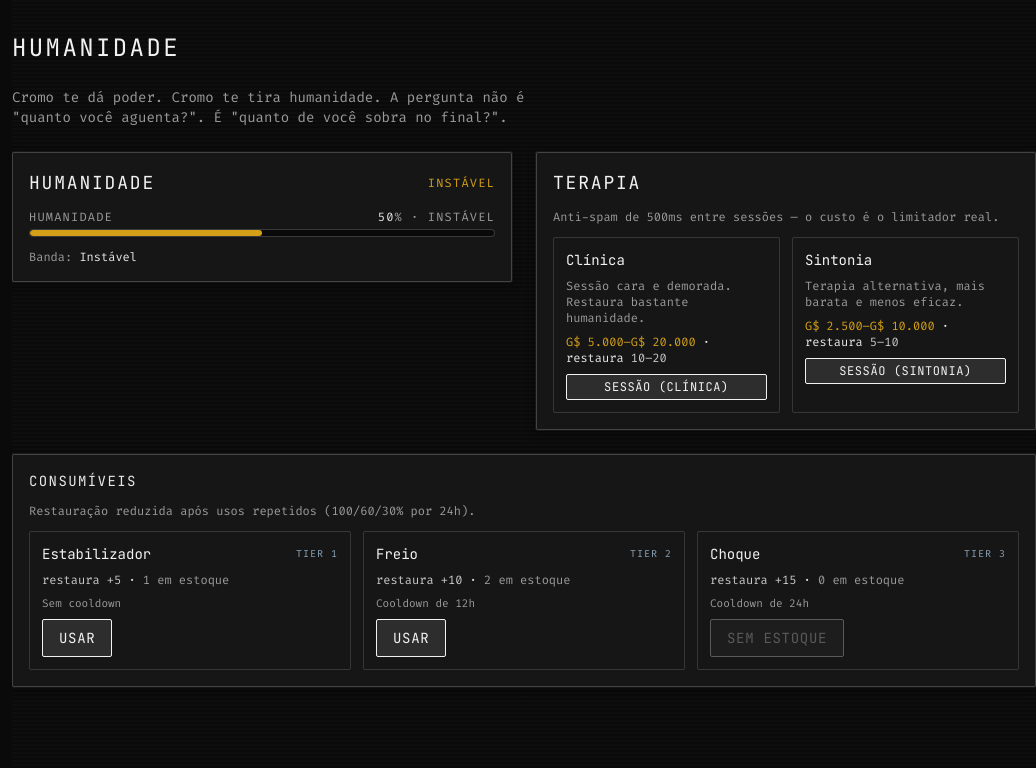
HumanityView › should show the therapy success message after a session
Click the button "Sessão (Clínica)" at (666, 387), box x1=566 y1=374 x2=767 y2=400
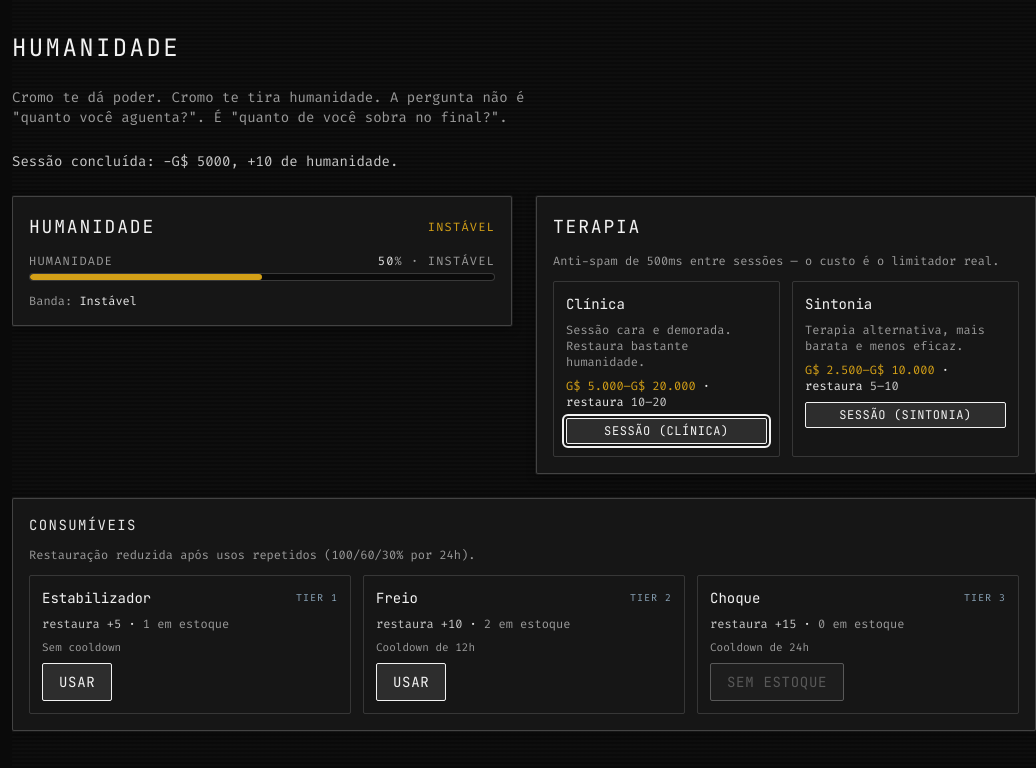
Expected: the text "Sessão concluída: -G$ 5000, +10 de humanidade." is shown, x1=12 y1=152 x2=398 y2=171
